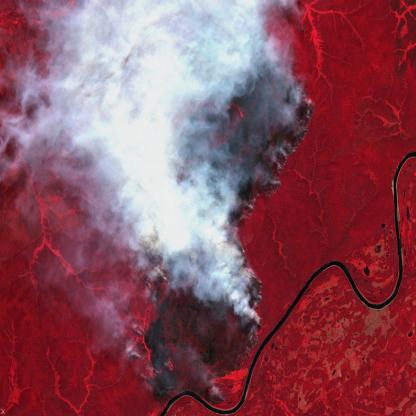fire: (128, 0, 325, 416)
